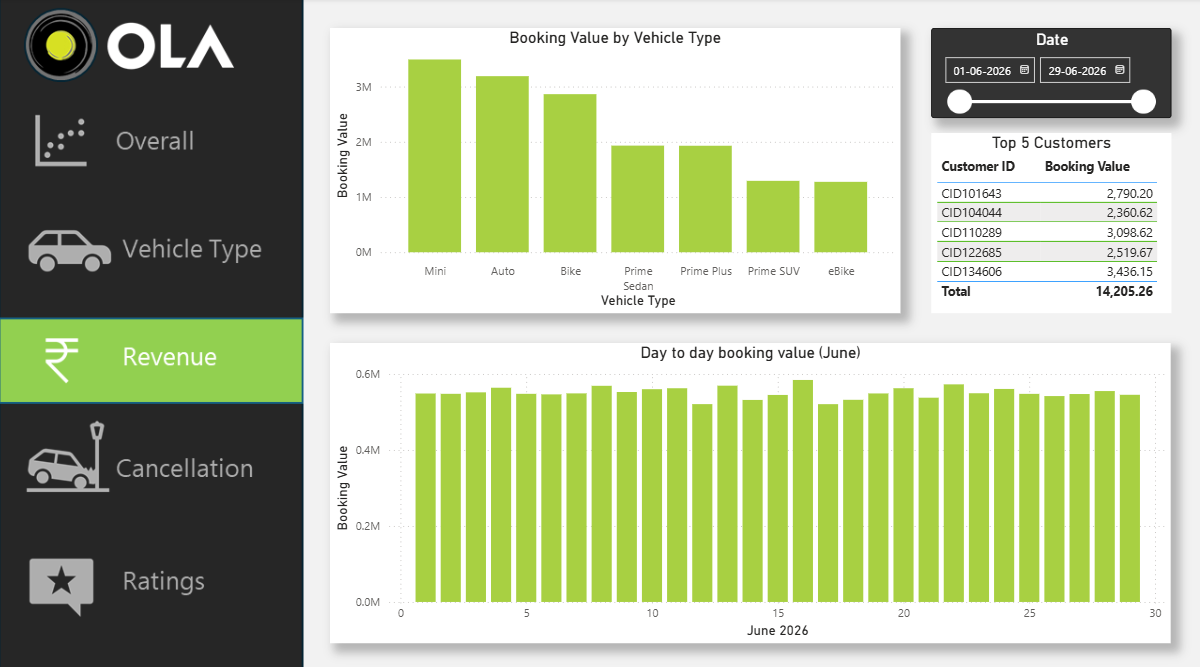

This screenshot's page, from the dashboard's own definition file:
{"tool":"powerbi","page":{"name":"Revenue","canvas":[1280,720],"ordinal":2},"visuals":[{"type":"actionButton","box":[0,208,320,96],"z":0},{"type":"actionButton","box":[0,96,320,96],"z":1000},{"type":"actionButton","box":[0,448,320,96],"z":2000},{"type":"actionButton","box":[0,576,320,96],"z":3000},{"type":"columnChart","title":"Booking Value by Vehicle Type","fields":{"Y":["Sum(bengaluru_ride_bookings.booking_value)"],"Category":["bengaluru_ride_bookings.vehicle_type"]},"box":[352,32,608,304],"z":4000},{"type":"columnChart","title":"Day to day booking value (June)","fields":{"Category":["bengaluru_ride_bookings.date.Variation.Date Hierarchy.Day"],"Y":["Sum(bengaluru_ride_bookings.booking_value)"]},"box":[352,368,896,320],"z":5000},{"type":"slicer","title":"Date","fields":{"Values":["bengaluru_ride_bookings.date"]},"box":[992,32,256,96],"z":6000},{"type":"tableEx","title":"Top 5 Customers","fields":{"Values":["bengaluru_ride_bookings.customer_id","Sum(bengaluru_ride_bookings.booking_value)"]},"box":[992,144,256,192],"z":7000}]}

Visuals, with their boxes in screenshot pixels (x1, y1, x2, y2), scaled from the page's 1280x720 canvas onto the 1200x667 screenshot:
actionButton: Rect(0, 193, 300, 282)
actionButton: Rect(0, 89, 300, 178)
actionButton: Rect(0, 415, 300, 504)
actionButton: Rect(0, 534, 300, 623)
"Booking Value by Vehicle Type" columnChart: Rect(330, 30, 900, 311)
"Day to day booking value (June)" columnChart: Rect(330, 341, 1170, 637)
"Date" slicer: Rect(930, 30, 1170, 119)
"Top 5 Customers" tableEx: Rect(930, 133, 1170, 311)
